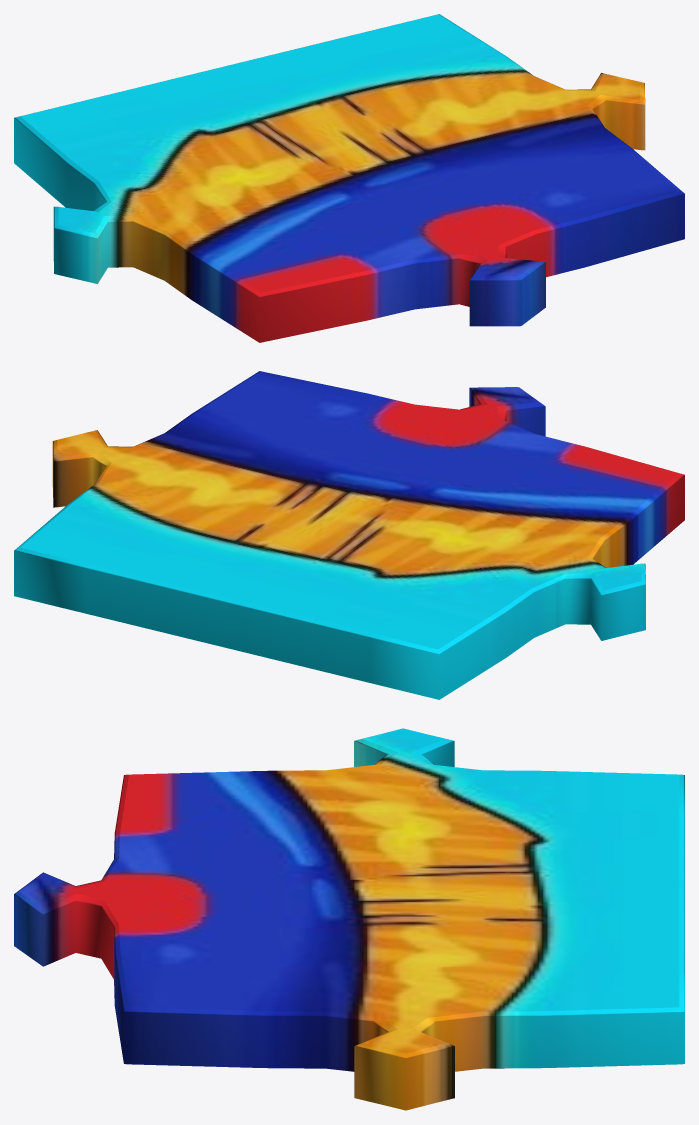
3 views of the same model, one above another, from view 1: azimuth 30°, elevation 25°; view 2: azimuth 150°, elevation 25°; view 3: azimuth 270°, elevation 25° (orthographic). The views are drawn at different scales.
Visible parts, largest first — view 1: jigsawPuzzle4x3_Grp_piece_2x1_Grp_Geo; view 2: jigsawPuzzle4x3_Grp_piece_2x1_Grp_Geo; view 3: jigsawPuzzle4x3_Grp_piece_2x1_Grp_Geo.
Part boxes in pixels (x1,y1,x2,y2): jigsawPuzzle4x3_Grp_piece_2x1_Grp_Geo: [14, 14, 684, 342]; jigsawPuzzle4x3_Grp_piece_2x1_Grp_Geo: [14, 371, 684, 699]; jigsawPuzzle4x3_Grp_piece_2x1_Grp_Geo: [14, 728, 684, 1110].
Size of the model in its own units: 1.36 by 0.11 by 1.17.
Materials: 1 (1 with a texture image).
